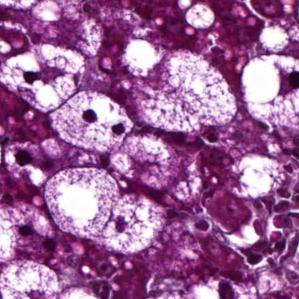ballooning: (0, 43, 87, 115), (42, 164, 123, 241), (49, 88, 134, 158), (239, 52, 299, 137)
